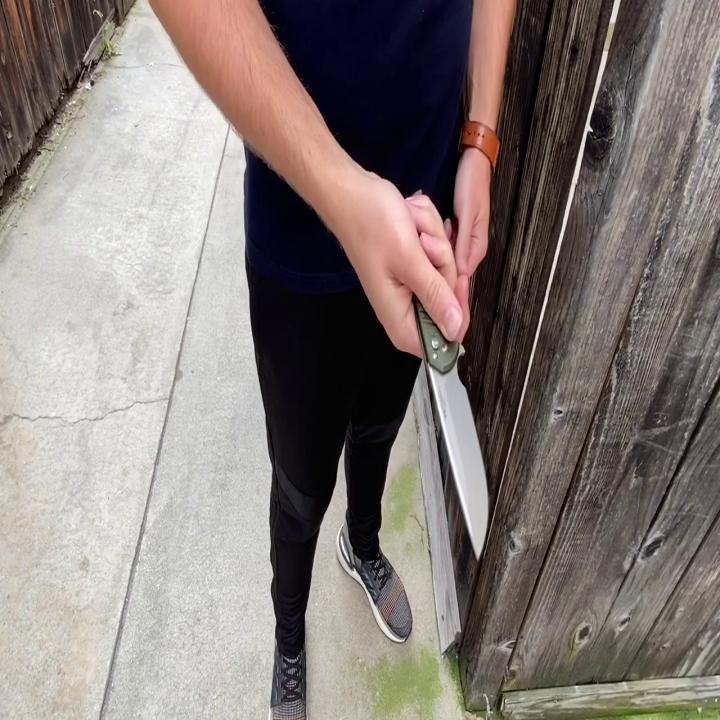knife: (404, 183, 495, 565)
